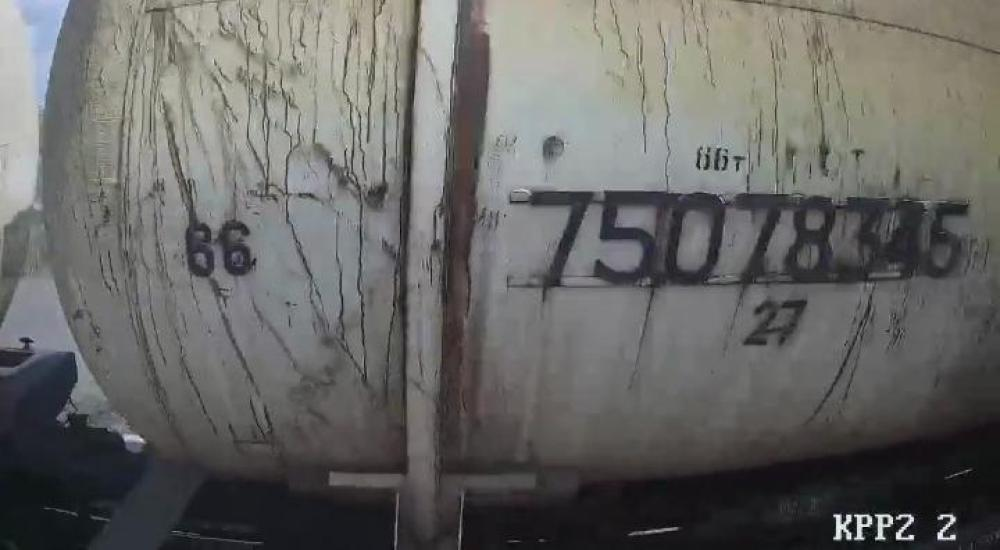Wagon-number: (524, 186, 976, 292)
